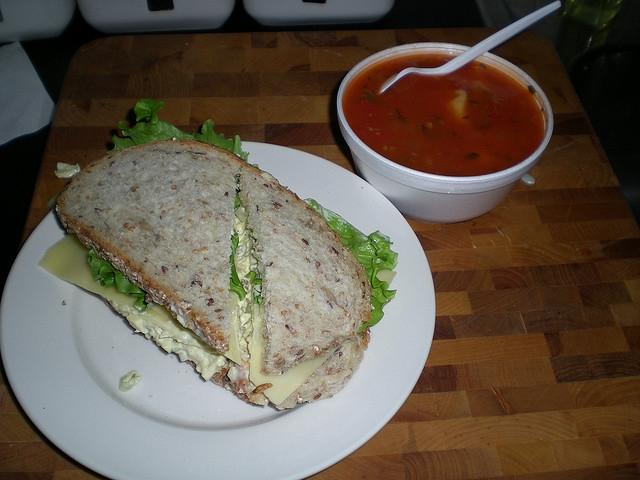lettuce: (303, 198, 399, 333), (106, 98, 250, 162), (88, 249, 156, 313), (228, 234, 246, 300), (244, 270, 264, 305), (46, 191, 62, 210), (234, 192, 243, 210)
